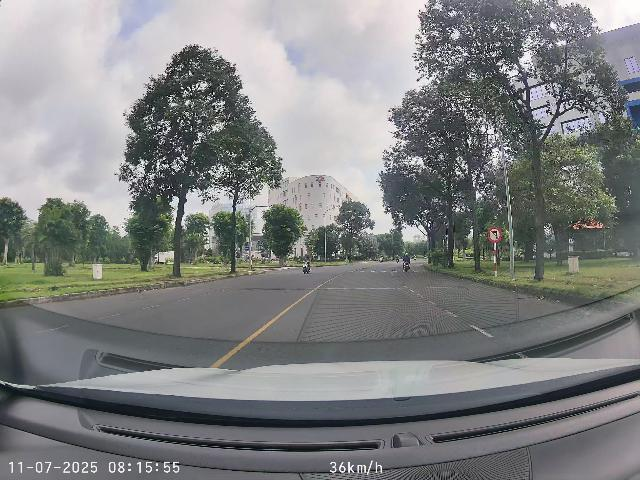123a-cam-re-trai: (488, 226, 502, 243)
